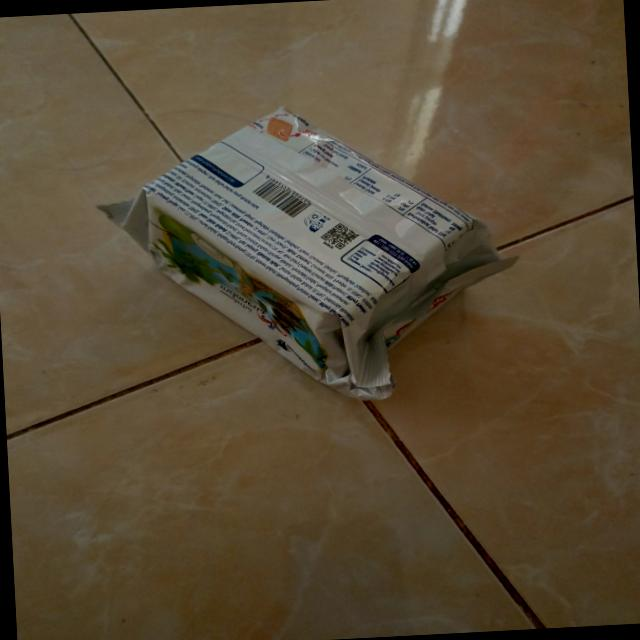gery-salut-coconut: (91, 92, 522, 418)
